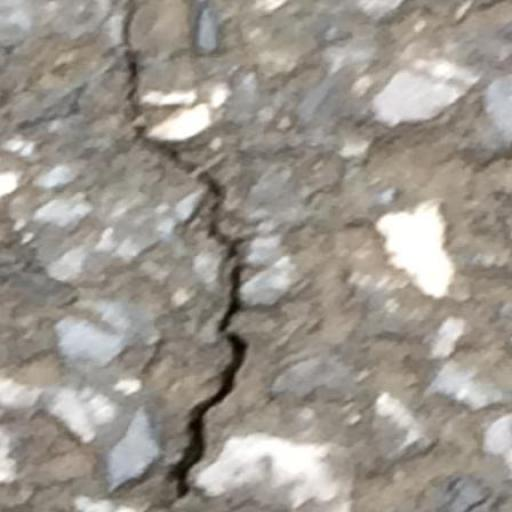spalling: (121, 5, 256, 502)
